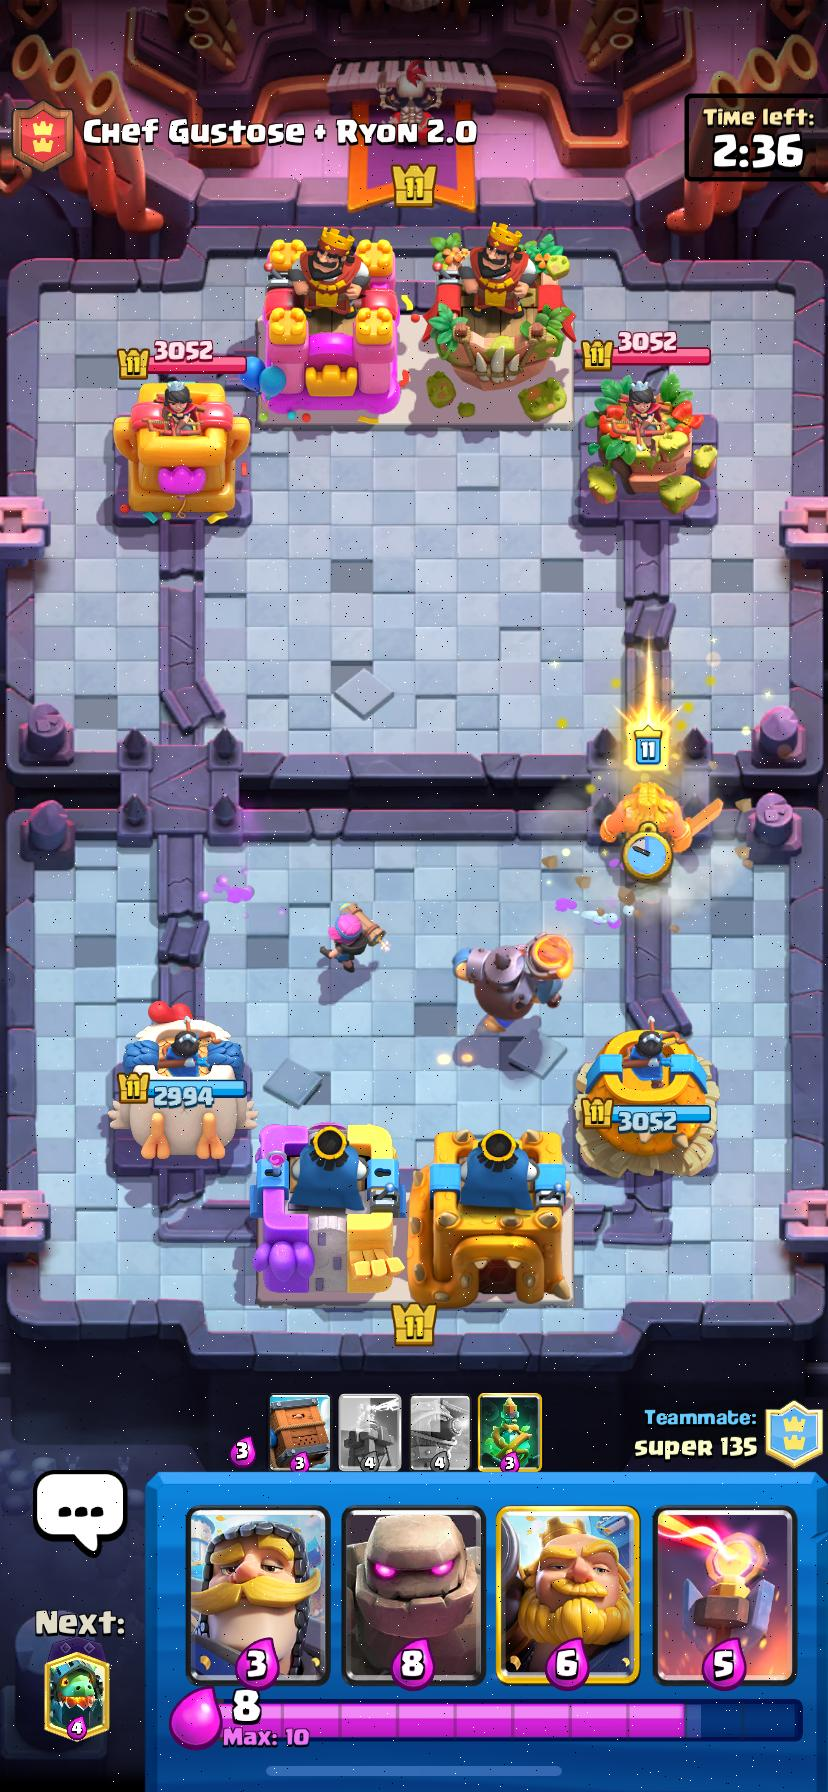EKingTower: (422, 223, 574, 422), (260, 227, 400, 423)
EnemyPrincessTower: (584, 371, 716, 514), (114, 382, 247, 515)
OFirecrack: (320, 903, 384, 971)
OFurnace: (454, 939, 562, 1027)
ORoyalKnight: (595, 782, 720, 881)
OwnKingTower: (417, 1129, 573, 1305), (253, 1123, 403, 1302)
OwnPrincessTower: (576, 1018, 717, 1177), (114, 1003, 256, 1159)
